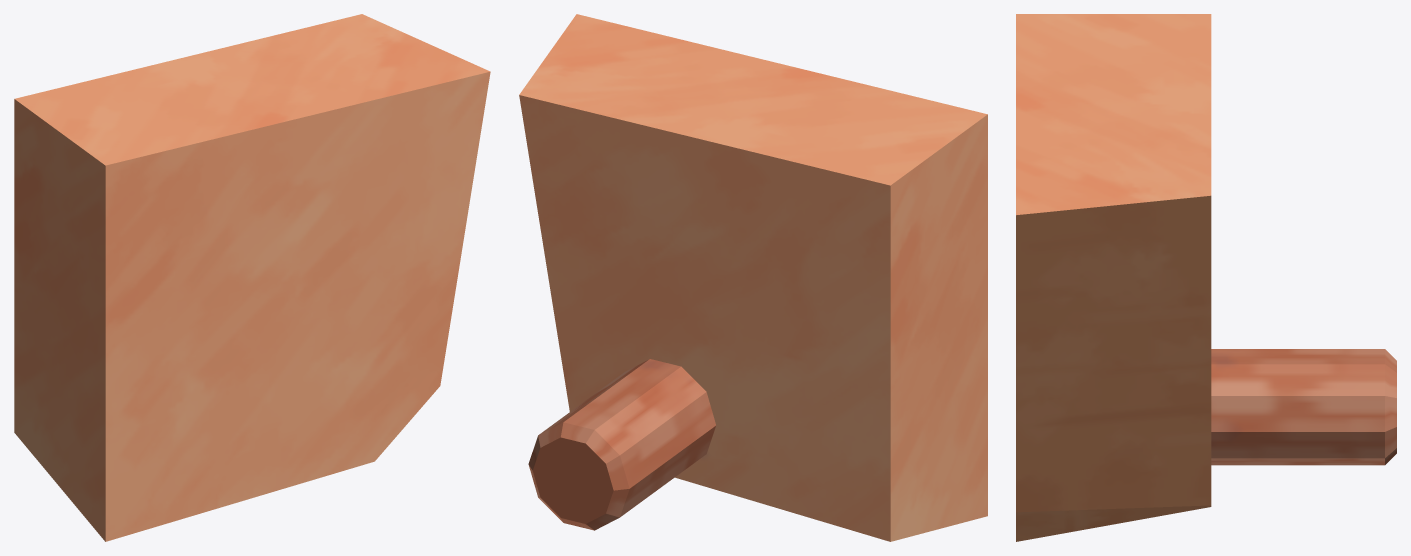
The model's file is wall_door_s10.fbx.
3 views of the same model, side by side, from view 1: azimuth 30°, elevation 25°; view 2: azimuth 150°, elevation 25°; view 3: azimuth 270°, elevation 25° (orthographic). The views are drawn at different scales.
Parts seen in each view (by area): view 1: wall_door_s10; view 2: wall_door_s10; view 3: wall_door_s10.
Part boxes in pixels (left/top/right/bottom): wall_door_s10: left=14, top=14, right=490, bottom=541; wall_door_s10: left=519, top=14, right=987, bottom=541; wall_door_s10: left=1016, top=14, right=1396, bottom=541.
Size of the model in its own units: 2.44 by 2.28 by 1.95.
